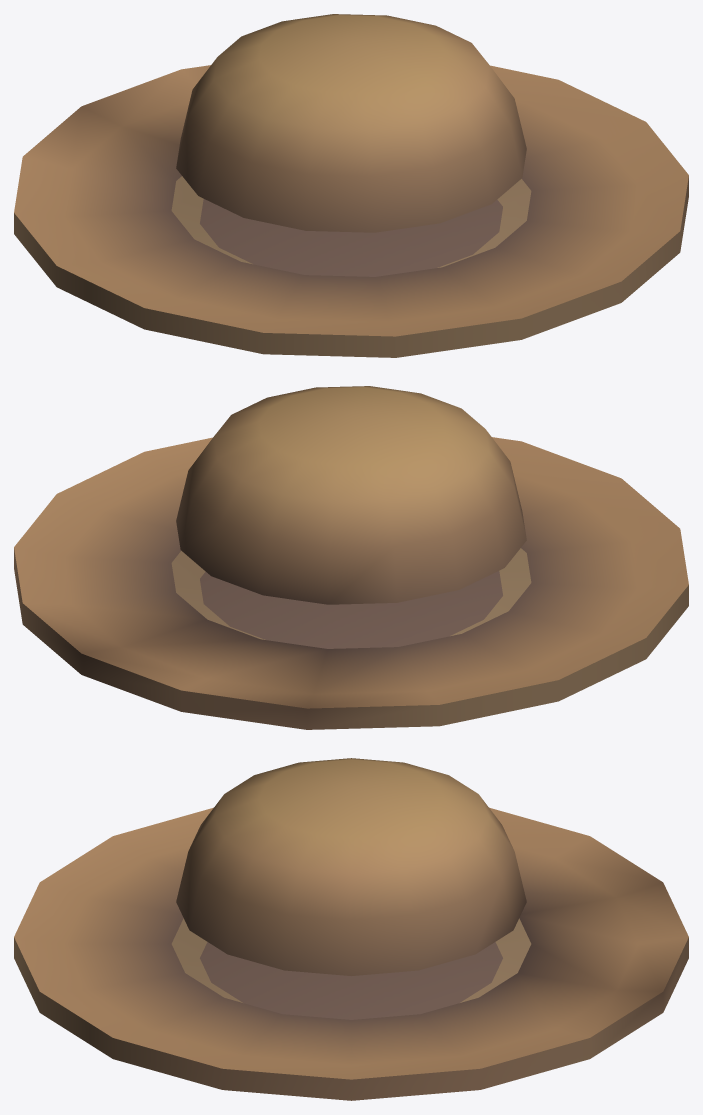
Rendered from human-clothing-sun-hat_v1.glb.
The picture shows the model from 3 angles, top to bottom: view 1: azimuth 30°, elevation 25°; view 2: azimuth 150°, elevation 25°; view 3: azimuth 270°, elevation 25°; orthographic projection.
Visible parts, largest first — view 1: Sun Hat; view 2: Sun Hat; view 3: Sun Hat.
Part boxes in pixels (x1,y1,x2,y2): Sun Hat: [14, 14, 688, 357]; Sun Hat: [14, 386, 688, 729]; Sun Hat: [14, 758, 688, 1100].
Size of the model in its own units: 0.4 by 0.1123 by 0.4.
